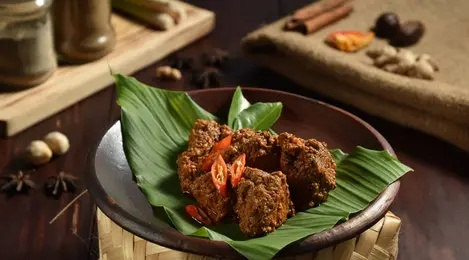rendang: (174, 118, 337, 236)
